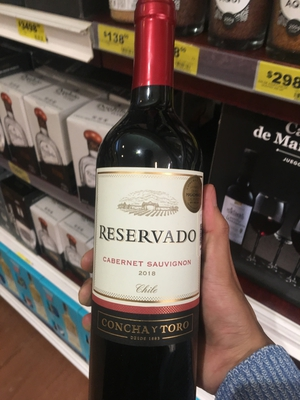reservado cabernet sauvignon: (91, 14, 211, 400)
